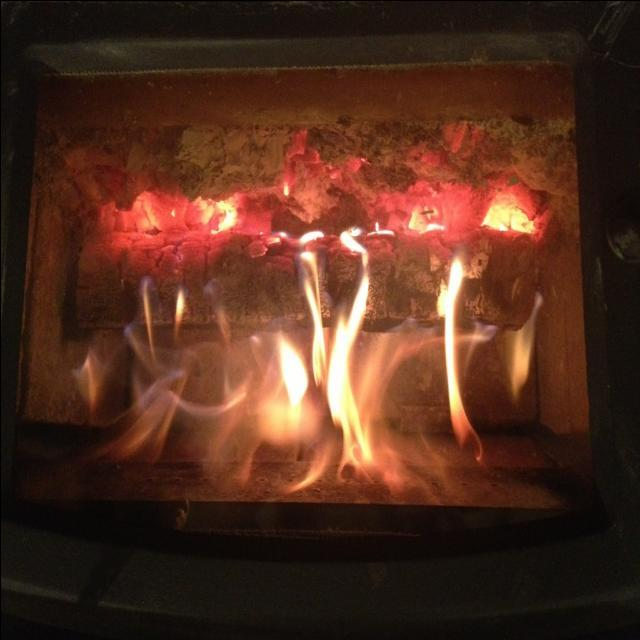Fire: (82, 140, 552, 507)
